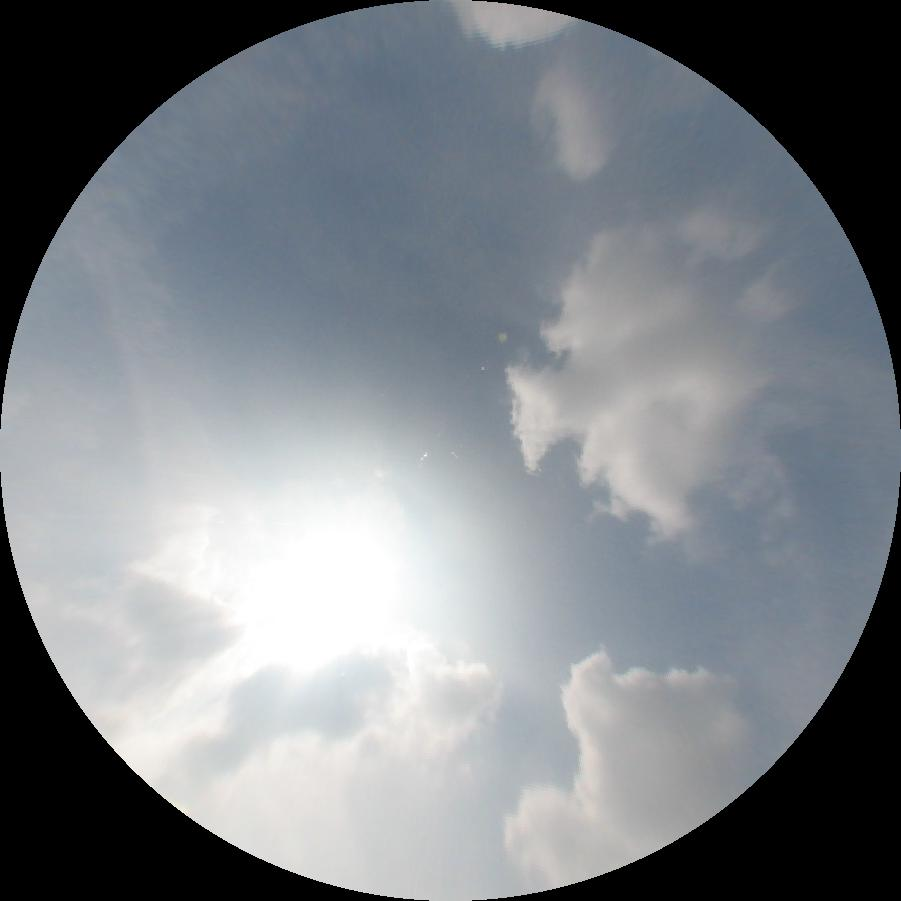sun: (233, 526, 402, 667)
